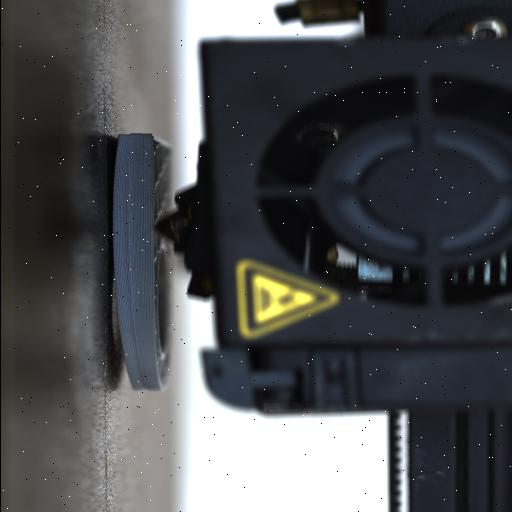warp: (104, 128, 132, 184)
